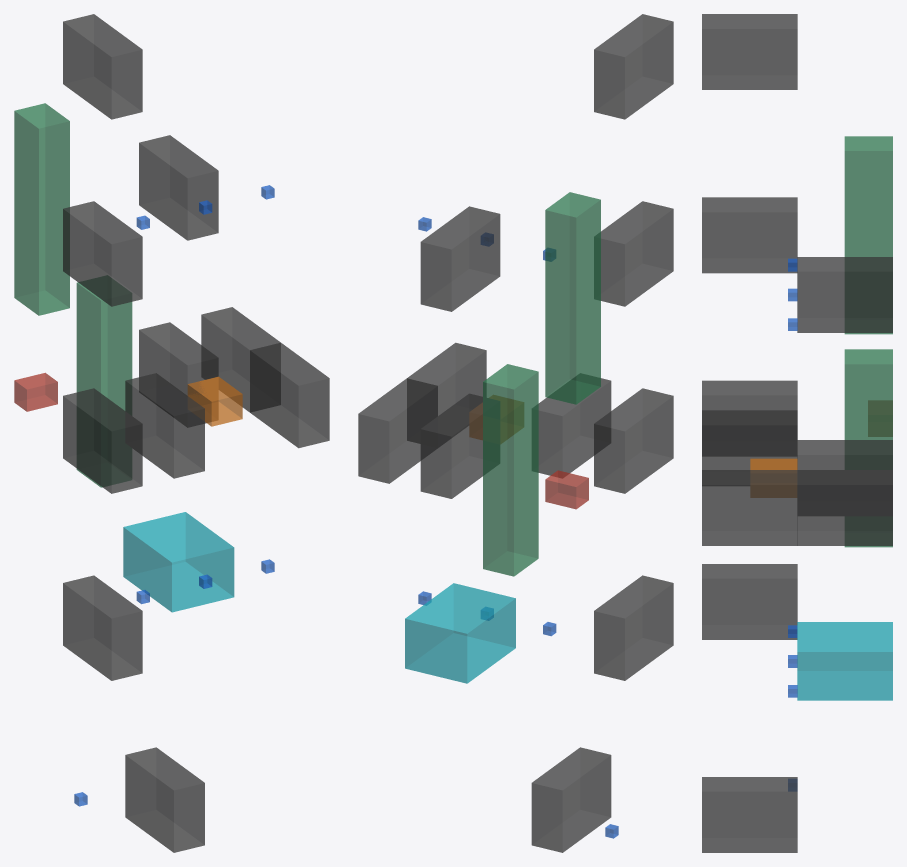
File: narkomfin_variant_03.obj
3 renders of one model, left to right at view 1: azimuth 30°, elevation 25°; view 2: azimuth 150°, elevation 25°; view 3: azimuth 270°, elevation 25°, orthographic. The views are drawn at different scales.
Visible parts, largest first — view 1: n16, n0, n20, n9, n5, n6, n7, n8, n3, n10, b, n2 (+3 smaller); view 2: n0, n16, n20, n9, n3, n6, n5, n8, n7, b, n2, n1 (+3 smaller); view 3: n16, n20, n0, n7, n10, n8, n9, n2, n3, n5, n6, n1 (+3 smaller).
Part boxes in pixels (left/top/right/bottom): n16: left=14, top=103, right=69, bottom=315; n0: left=76, top=275, right=132, bottom=487; n20: left=123, top=512, right=234, bottom=612; n9: left=125, top=747, right=204, bottom=852; n5: left=63, top=575, right=142, bottom=680; n6: left=63, top=388, right=142, bottom=493; n7: left=63, top=201, right=142, bottom=306; n8: left=63, top=14, right=142, bottom=119; n3: left=139, top=135, right=218, bottom=240; n10: left=250, top=342, right=329, bottom=448; b: left=125, top=373, right=204, bottom=478; n2: left=201, top=307, right=280, bottom=412; n0: left=483, top=364, right=538, bottom=576; n16: left=545, top=192, right=600, bottom=404; n20: left=405, top=583, right=515, bottom=683; n9: left=531, top=747, right=611, bottom=852; n3: left=420, top=206, right=500, bottom=311; n6: left=594, top=388, right=673, bottom=493; n5: left=594, top=575, right=673, bottom=680; n8: left=594, top=14, right=673, bottom=119; n7: left=594, top=201, right=673, bottom=306; b: left=532, top=373, right=611, bottom=477; n2: left=358, top=378, right=437, bottom=483; n1: left=420, top=393, right=499, bottom=498; n16: left=844, top=136, right=892, bottom=334; n20: left=797, top=622, right=892, bottom=700; n0: left=844, top=349, right=892, bottom=547; n7: left=702, top=197, right=797, bottom=273; n10: left=702, top=470, right=797, bottom=545; n8: left=702, top=14, right=797, bottom=89; n9: left=702, top=777, right=797, bottom=852; n2: left=797, top=470, right=892, bottom=545; n3: left=797, top=257, right=892, bottom=332; n5: left=702, top=564, right=797, bottom=639; n6: left=702, top=380, right=797, bottom=455; n1: left=797, top=440, right=892, bottom=515.
Bounding box in the file's own units: 25.62 × 91.01 × 19.8.
